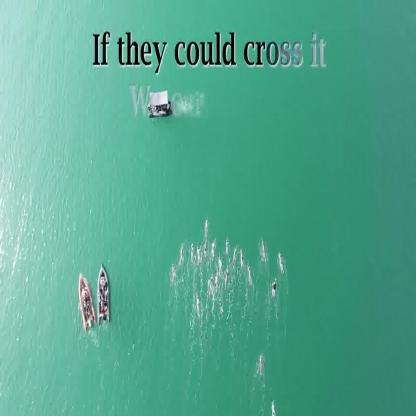Boat: (96, 261, 112, 321), (77, 268, 93, 328)
